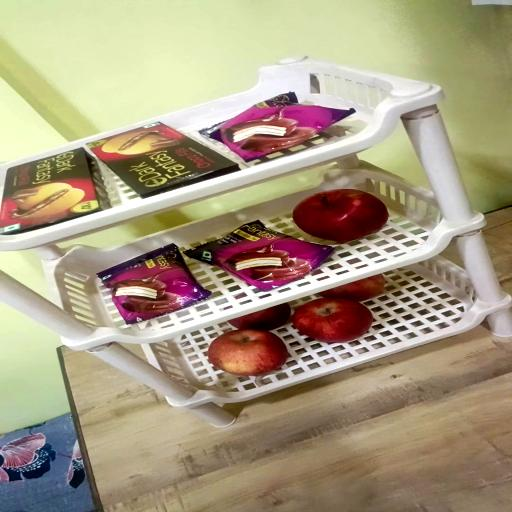Apple: (293, 191, 388, 245), (209, 330, 290, 376), (294, 298, 373, 344), (317, 276, 386, 302), (228, 304, 292, 331)
Choco Fills: (86, 120, 238, 198), (0, 150, 109, 237)
Choco Pie: (201, 91, 357, 162), (187, 221, 336, 293), (96, 246, 209, 325)
